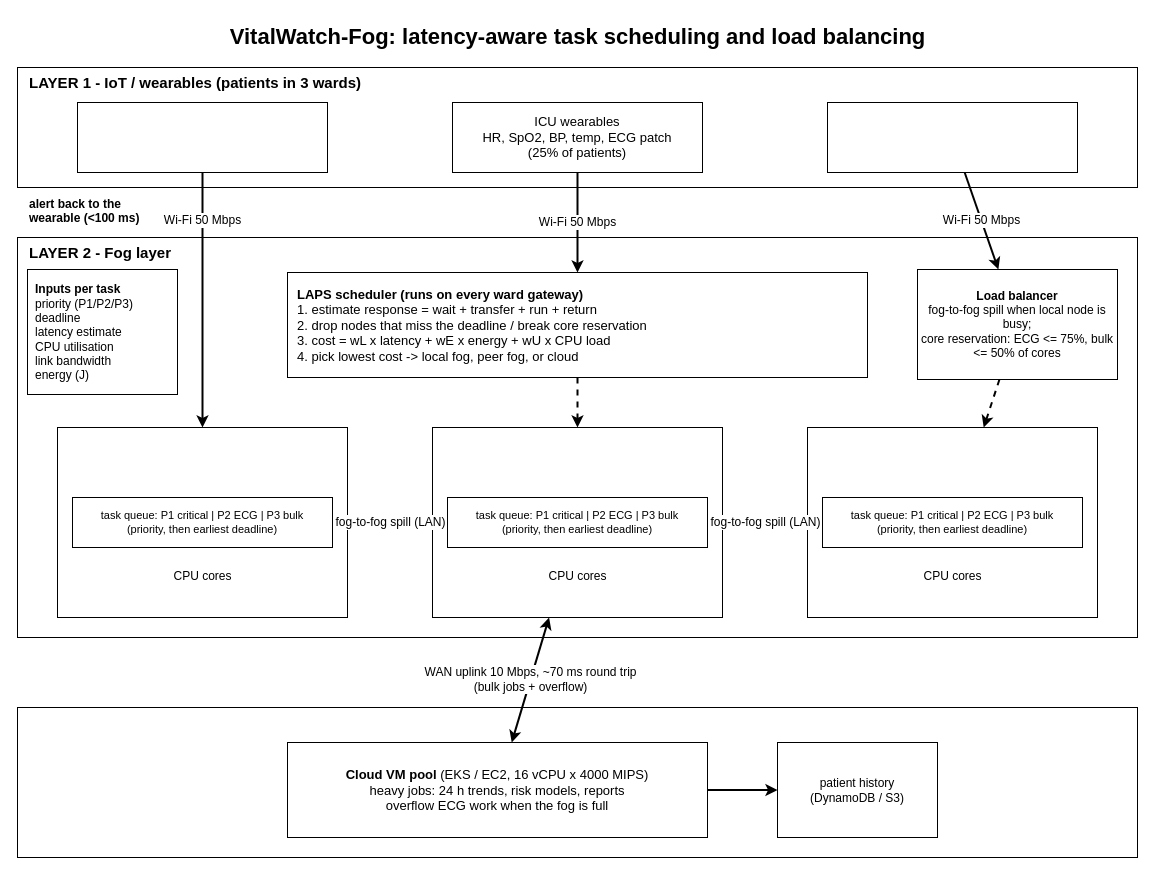
This 1155x875 diagram has some shape labels left out. Each missing label, with the box of its shape:
fog-1 Ward A gateway Raspberry Pi 4 class 4 cores x 1000 MIPS: (56, 426, 348, 618)
fog-2 ICU gateway Jetson Nano class 4 cores x 1400 MIPS: (432, 426, 722, 618)
fog-3 hospital fog server Intel NUC class 4 cores x 3000 MIPS: (806, 426, 1098, 618)
General ward / OPD wearables HR, SpO2, BP, temp, ECG patch (50% of patients): (826, 102, 1078, 172)
LAYER 3 - Cloud (AWS): (16, 706, 1138, 858)
Ward A wearables HR, SpO2, BP, temp, ECG patch (25% of patients): (76, 102, 328, 172)
